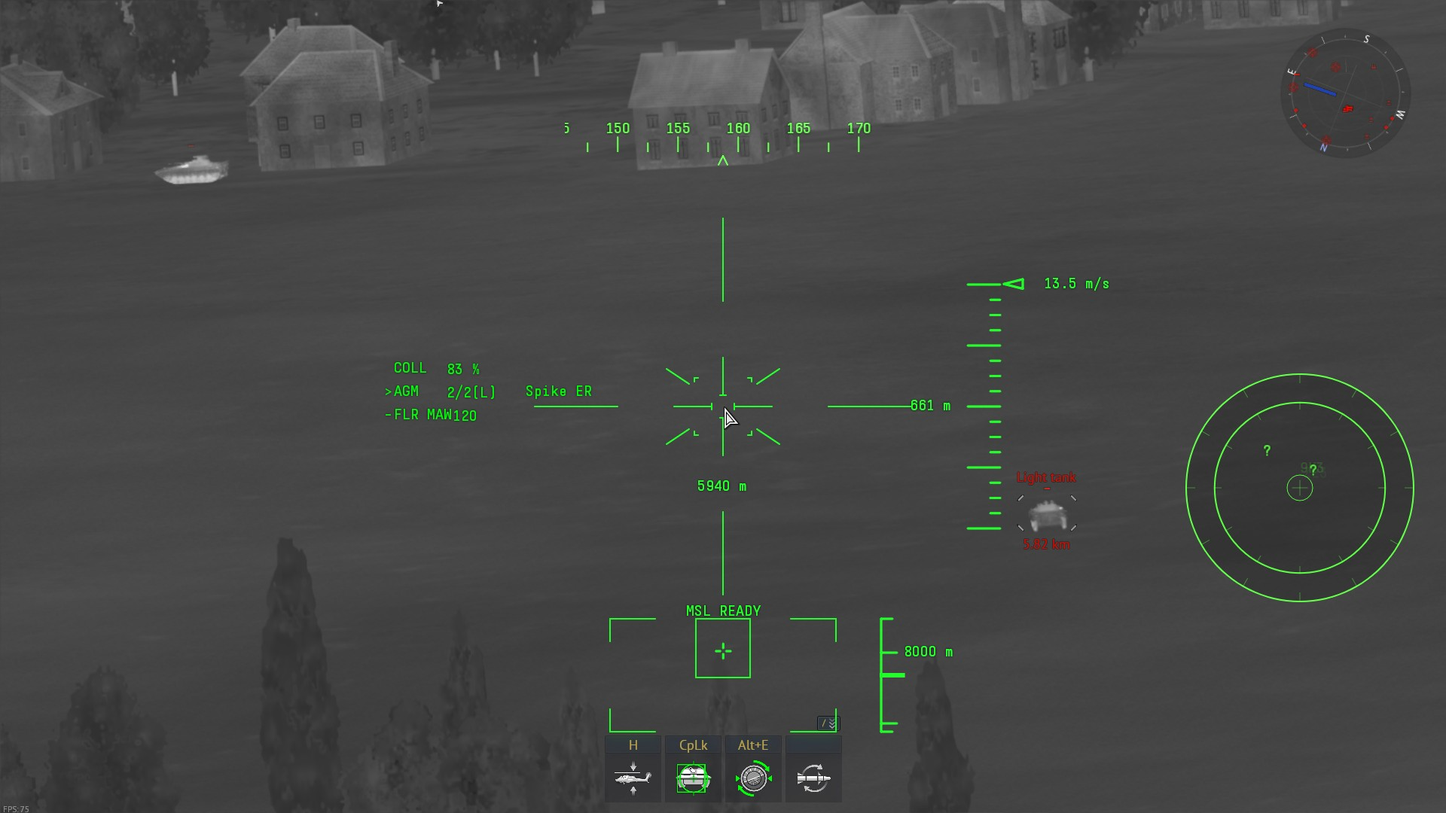bmp2: (154, 154, 230, 186), (1029, 499, 1068, 532)
